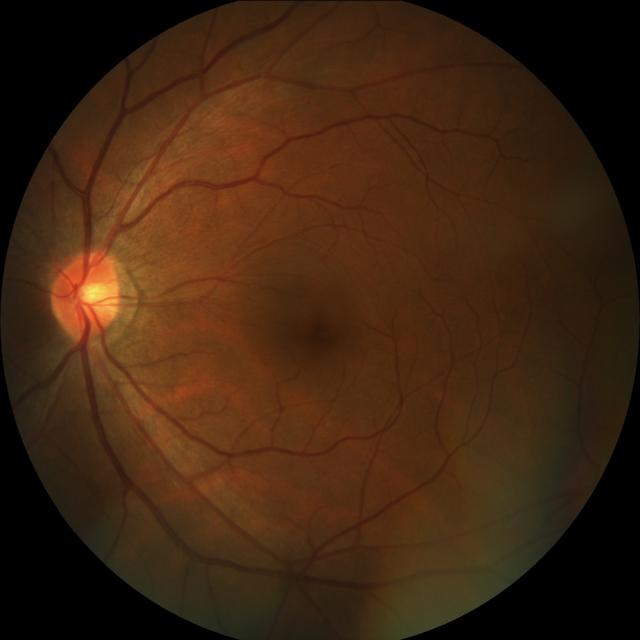OC: (72, 275, 110, 316)
OD: (53, 250, 124, 336)
